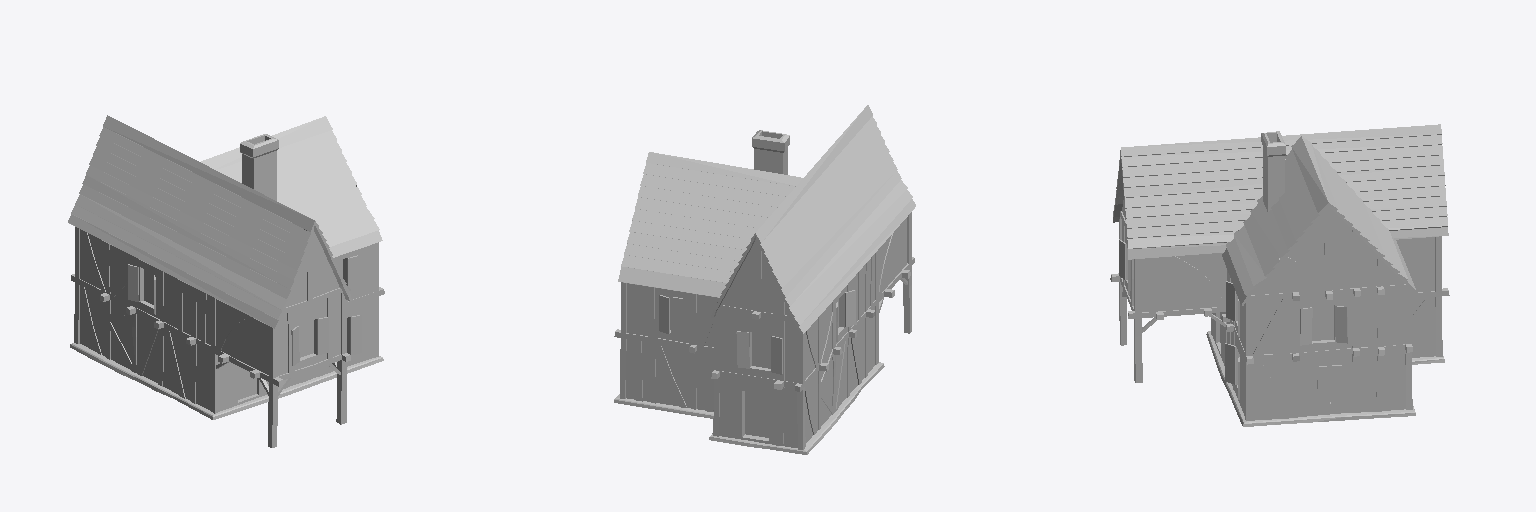
File: medievalHouse.obj
3 renders of one model, left to right at view 1: azimuth 30°, elevation 25°; view 2: azimuth 150°, elevation 25°; view 3: azimuth 270°, elevation 25°, orthographic.
Visible parts, largest first — view 1: Mesh_Box291; view 2: Mesh_Box291; view 3: Mesh_Box291.
Part boxes in pixels (left/top/right/bottom): Mesh_Box291: left=68, top=115, right=384, bottom=447; Mesh_Box291: left=614, top=105, right=915, bottom=454; Mesh_Box291: left=1110, top=124, right=1449, bottom=426.
Bounding box in the file's own units: 6.96 × 7.01 × 9.1.